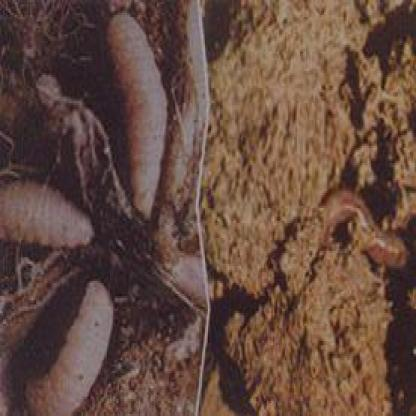whorl-maggot: (102, 7, 174, 219), (21, 274, 118, 412), (4, 175, 97, 249)
